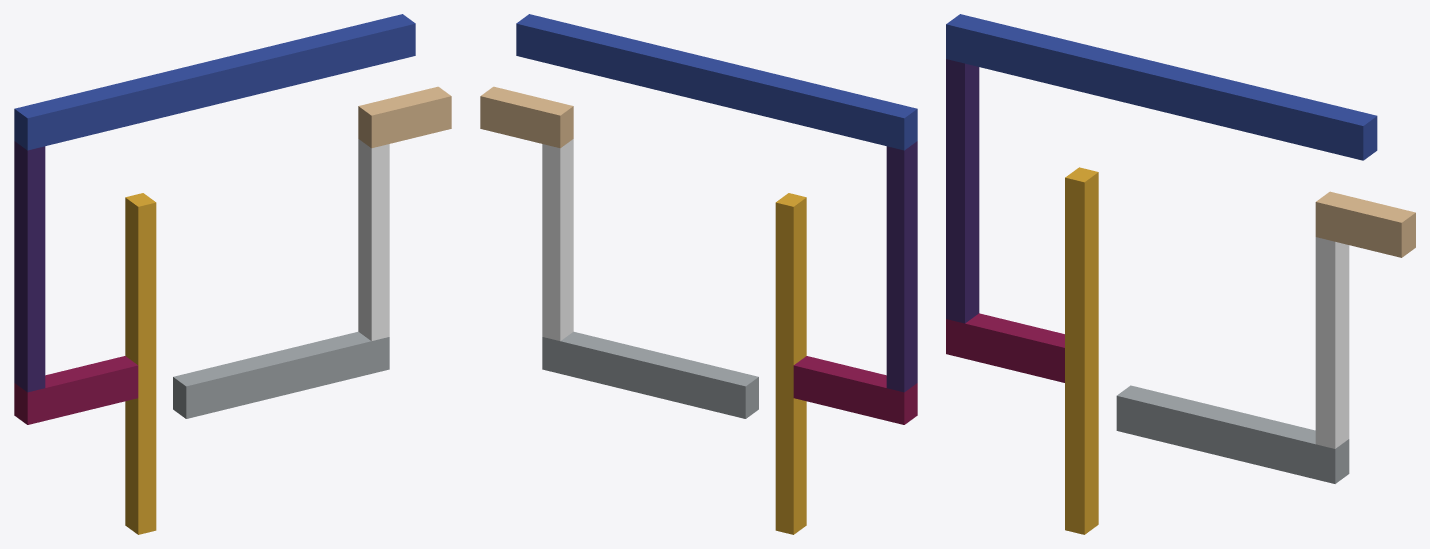
File: tinker.obj
3 views of the same model, side by side, from view 1: azimuth 30°, elevation 25°; view 2: azimuth 150°, elevation 25°; view 3: azimuth 330°, elevation 25° (orthographic). The views are drawn at different scales.
Parts seen in each view (by area): view 1: group_0_3888552, group_0_14789940, group_0_10988977, group_0_4796018, group_0_16448250, group_0_9444435, group_0_14860437; view 2: group_0_3888552, group_0_14789940, group_0_10988977, group_0_4796018, group_0_16448250, group_0_9444435, group_0_14860437; view 3: group_0_3888552, group_0_14789940, group_0_10988977, group_0_4796018, group_0_16448250, group_0_9444435, group_0_14860437.
Part boxes in pixels (x1,y1,x2,y2): group_0_3888552: [14, 14, 415, 150]; group_0_14789940: [125, 193, 156, 534]; group_0_10988977: [173, 331, 389, 418]; group_0_4796018: [14, 141, 45, 392]; group_0_16448250: [358, 139, 389, 341]; group_0_9444435: [14, 356, 138, 424]; group_0_14860437: [358, 86, 451, 148]; group_0_3888552: [516, 14, 917, 150]; group_0_14789940: [775, 193, 806, 534]; group_0_10988977: [542, 331, 758, 418]; group_0_4796018: [886, 141, 917, 392]; group_0_16448250: [542, 139, 573, 341]; group_0_9444435: [793, 356, 917, 424]; group_0_14860437: [480, 86, 573, 148]; group_0_3888552: [946, 14, 1377, 160]; group_0_14789940: [1065, 167, 1098, 534]; group_0_10988977: [1116, 385, 1349, 483]; group_0_4796018: [946, 59, 979, 323]; group_0_16448250: [1315, 237, 1349, 448]; group_0_9444435: [946, 313, 1064, 382]; group_0_14860437: [1315, 191, 1415, 257].
Bounding box in the file's own units: 998 × 998 × 53.46.
